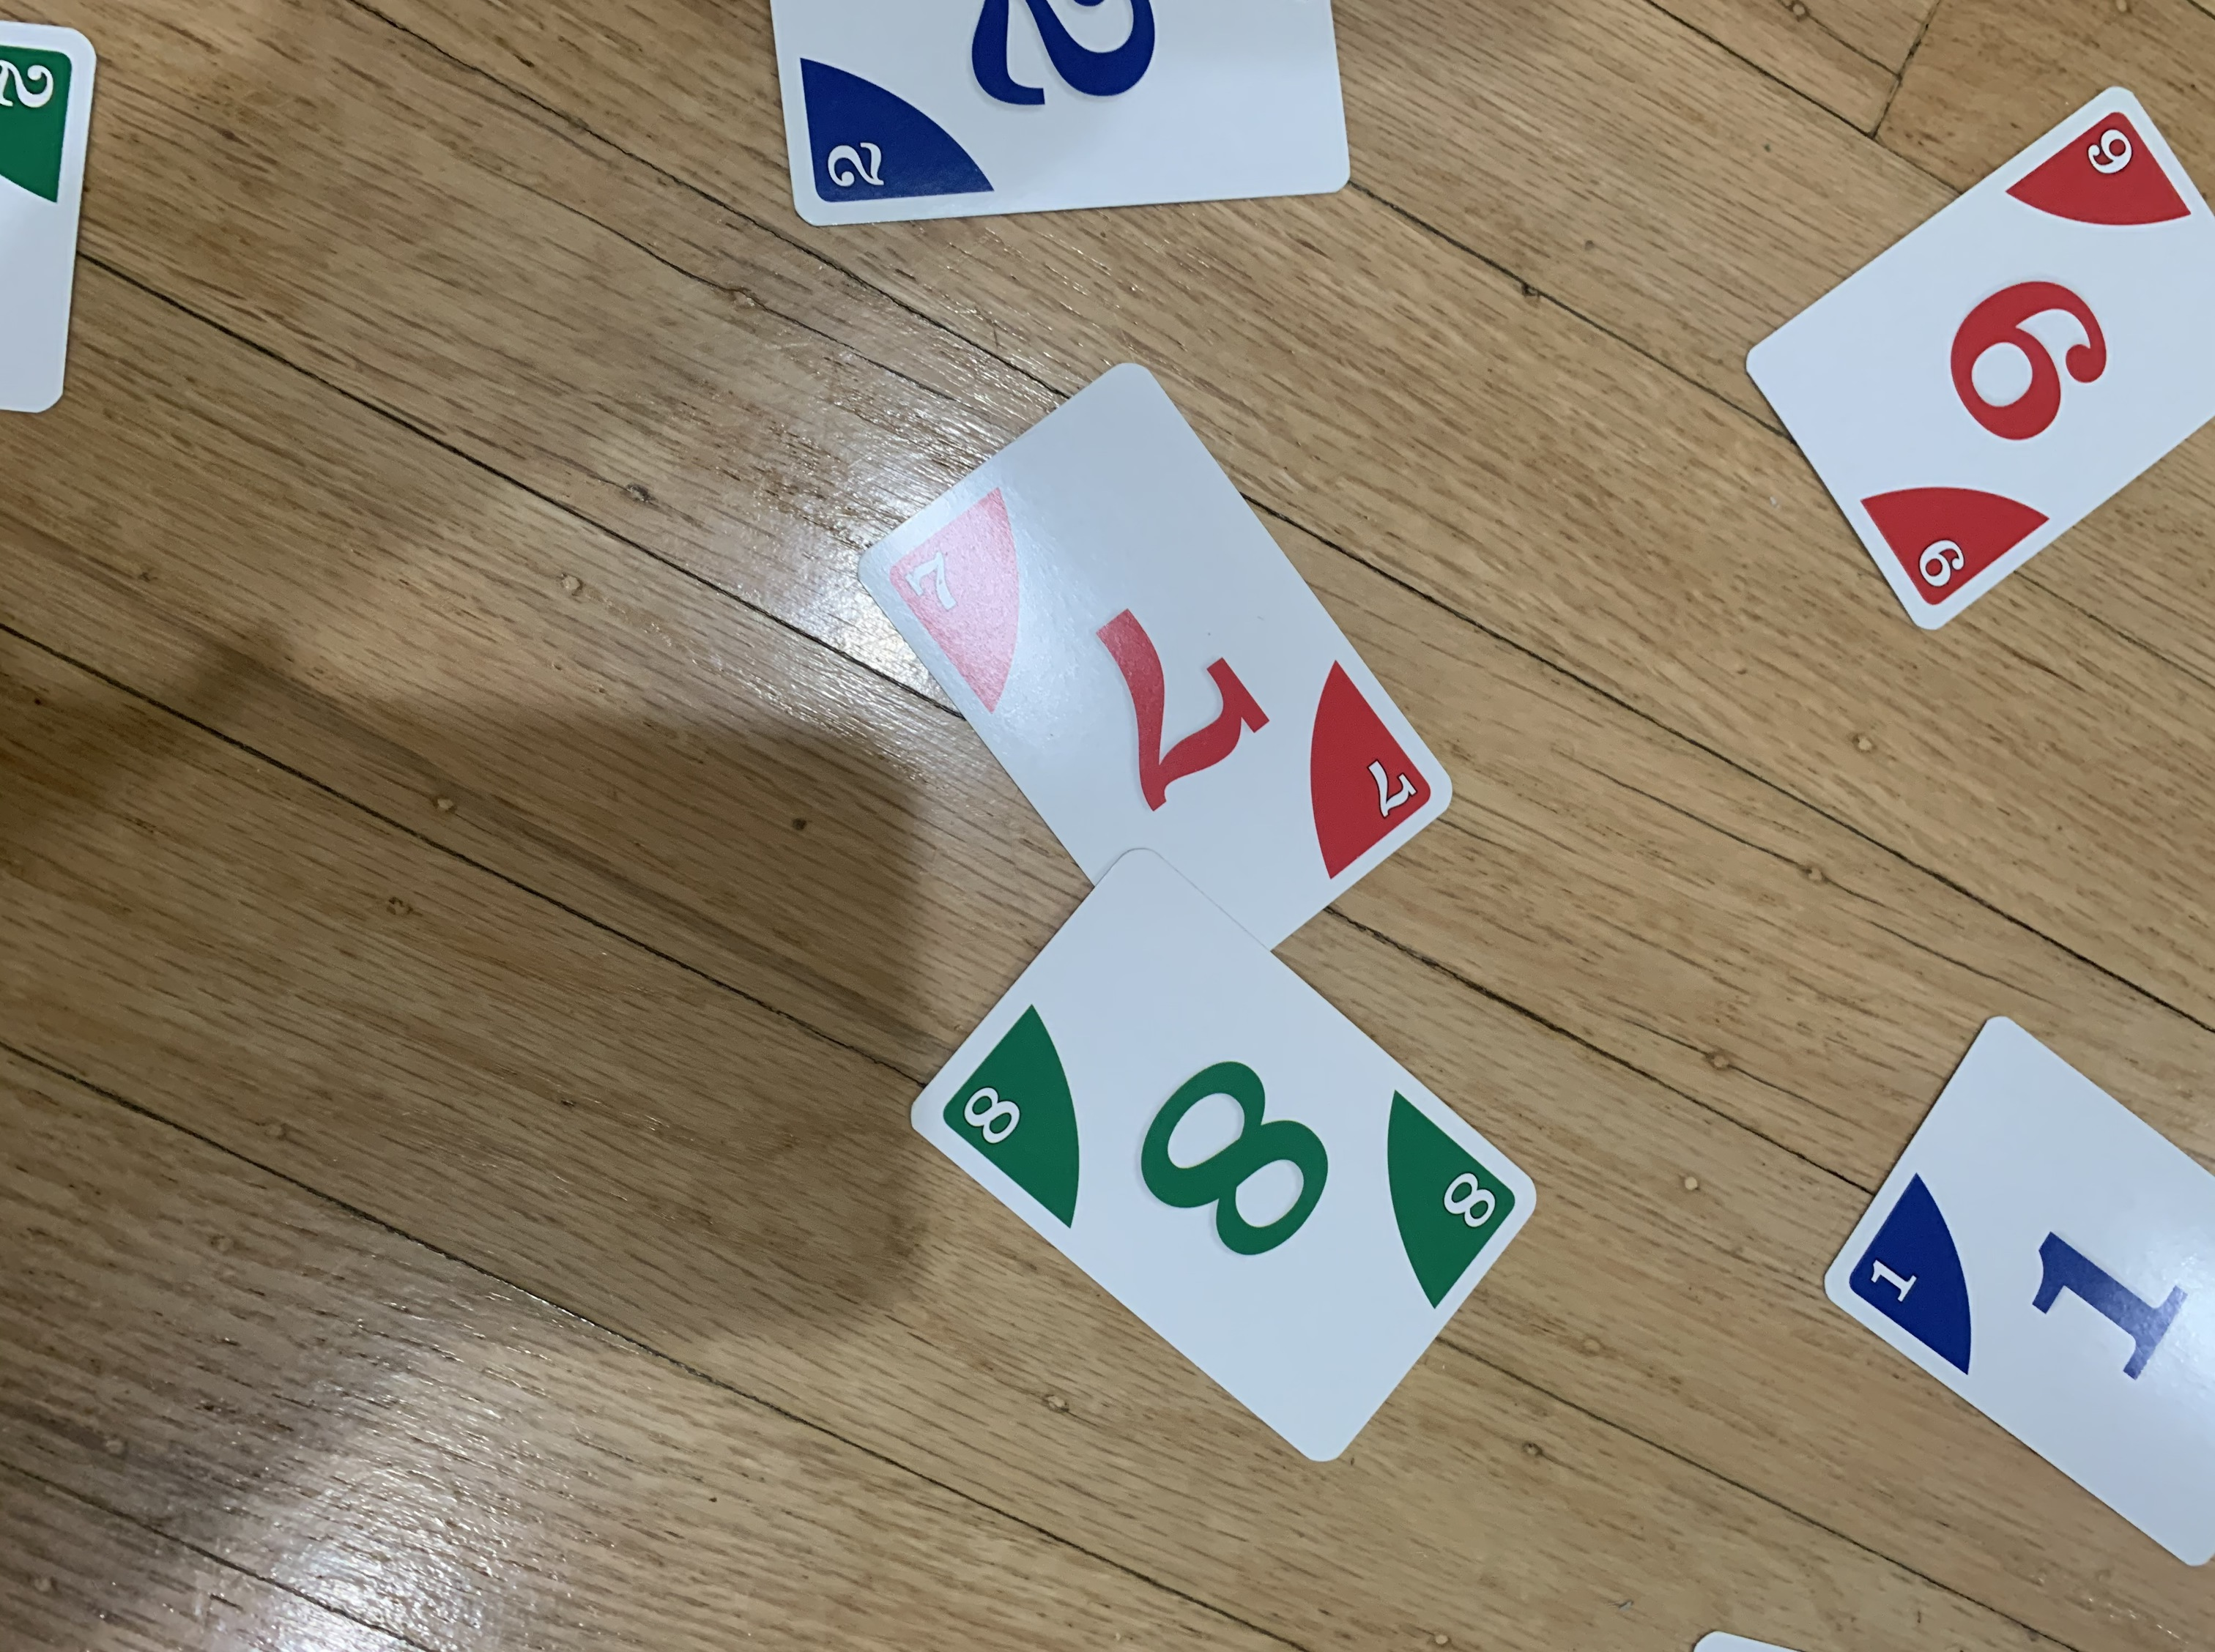eight: (887, 842, 1548, 1472)
one: (1802, 1003, 2215, 1590)
seven: (835, 347, 1469, 1000)
six: (1729, 80, 2215, 659)
